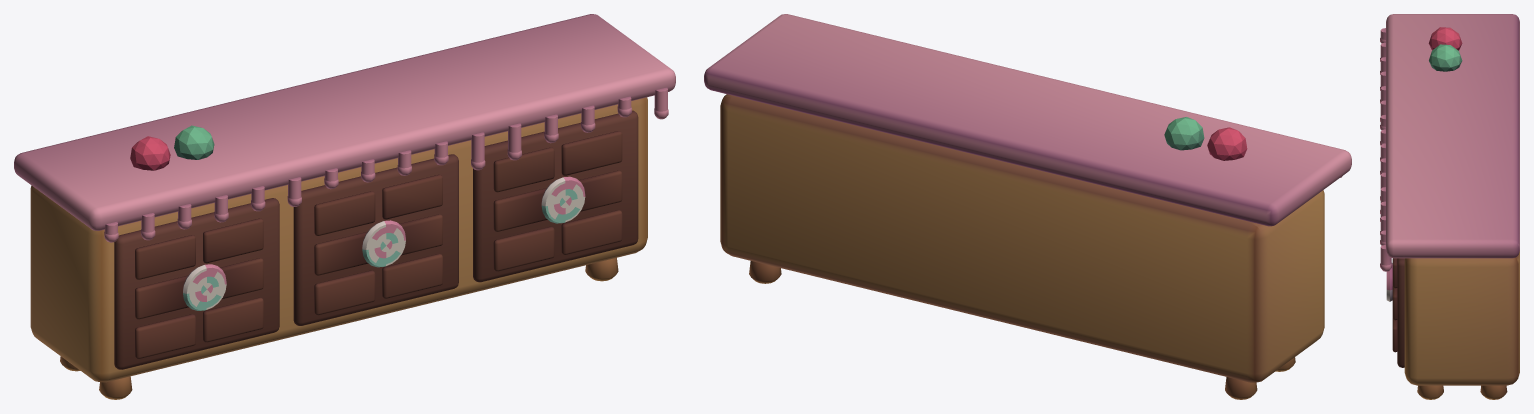
The model's file is cabinet_candy.glb.
3 renders of one model, left to right at view 1: azimuth 30°, elevation 25°; view 2: azimuth 150°, elevation 25°; view 3: azimuth 270°, elevation 25°, orthographic. The views are drawn at different scales.
Parts seen in each view (by area): view 1: cabinet_candy; view 2: cabinet_candy; view 3: cabinet_candy.
Boxes of the visible parts, box(x1,y1,x2,y2) form: cabinet_candy: box(14, 14, 675, 399); cabinet_candy: box(704, 14, 1351, 399); cabinet_candy: box(1380, 14, 1519, 399).
Bounding box in the file's own units: 2.94 × 1.15 × 0.7523.
